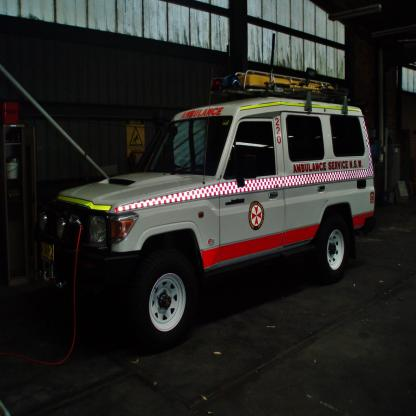Ambulance: (30, 66, 376, 345)
